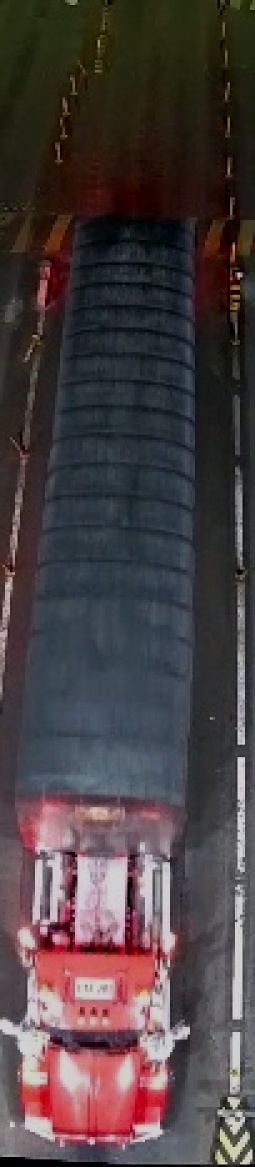truck: (18, 216, 201, 1138)
